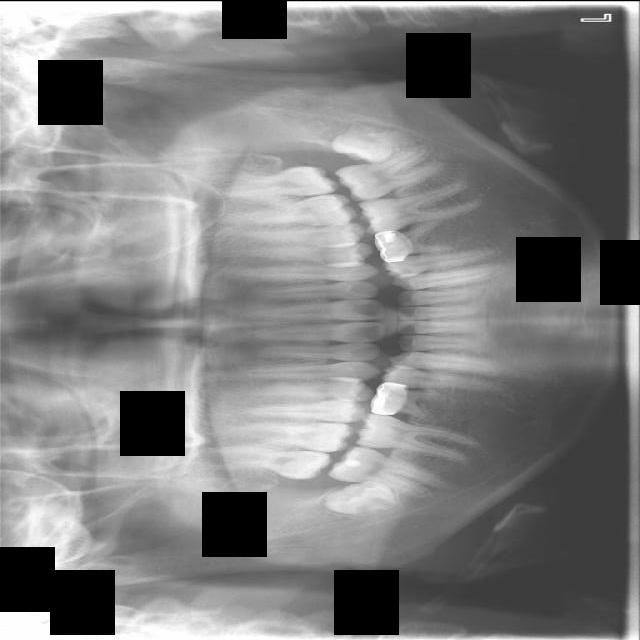52: (328, 445, 386, 482), (371, 221, 417, 267), (370, 378, 410, 418)
73: (566, 29, 574, 37)
BioHorizons Implant: (211, 163, 339, 201)
Biomet 3i Implant: (329, 117, 401, 167)
Blue Sky Bio Implant: (333, 140, 445, 207)
Caries: (208, 442, 335, 481)
Implant: (327, 438, 444, 501)
Keystone Dental Implant: (321, 472, 398, 526)
